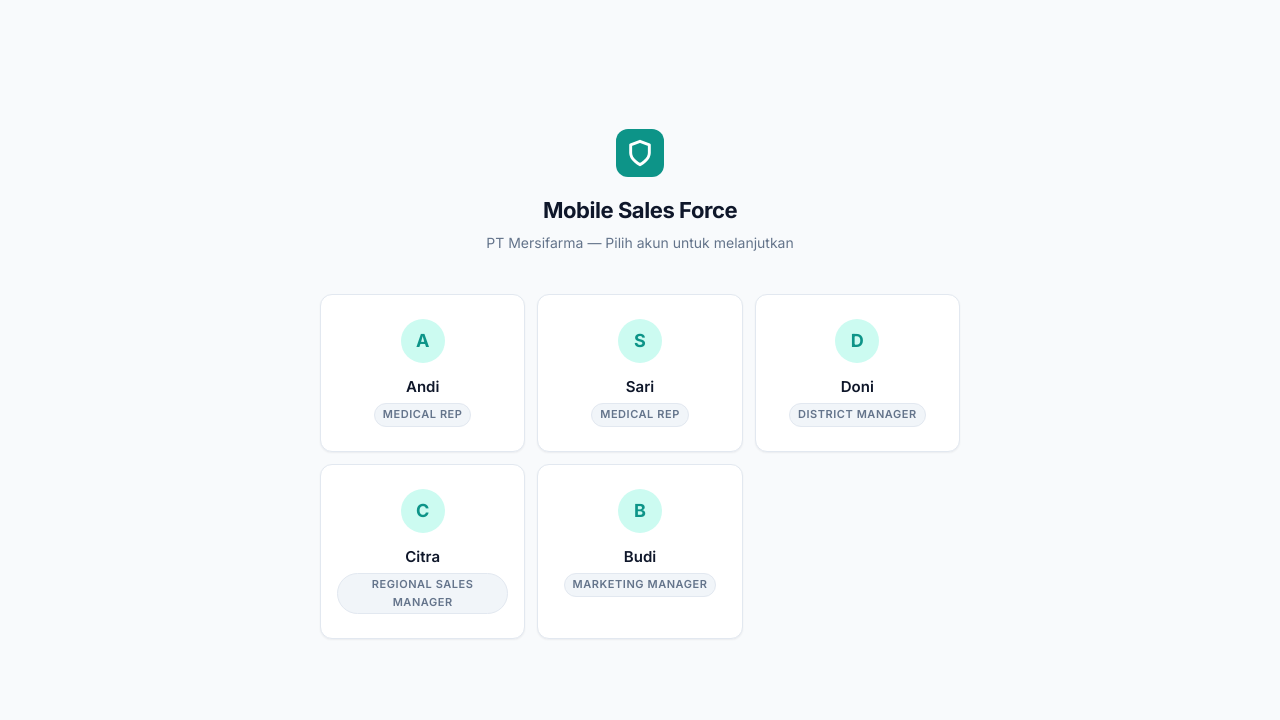
Test case: Generate Screenshots › takes screenshots of all main pages
# Login as MR
Click the button "A Andi Medical Rep". click: click(423, 373)
box: [320,294,525,452]
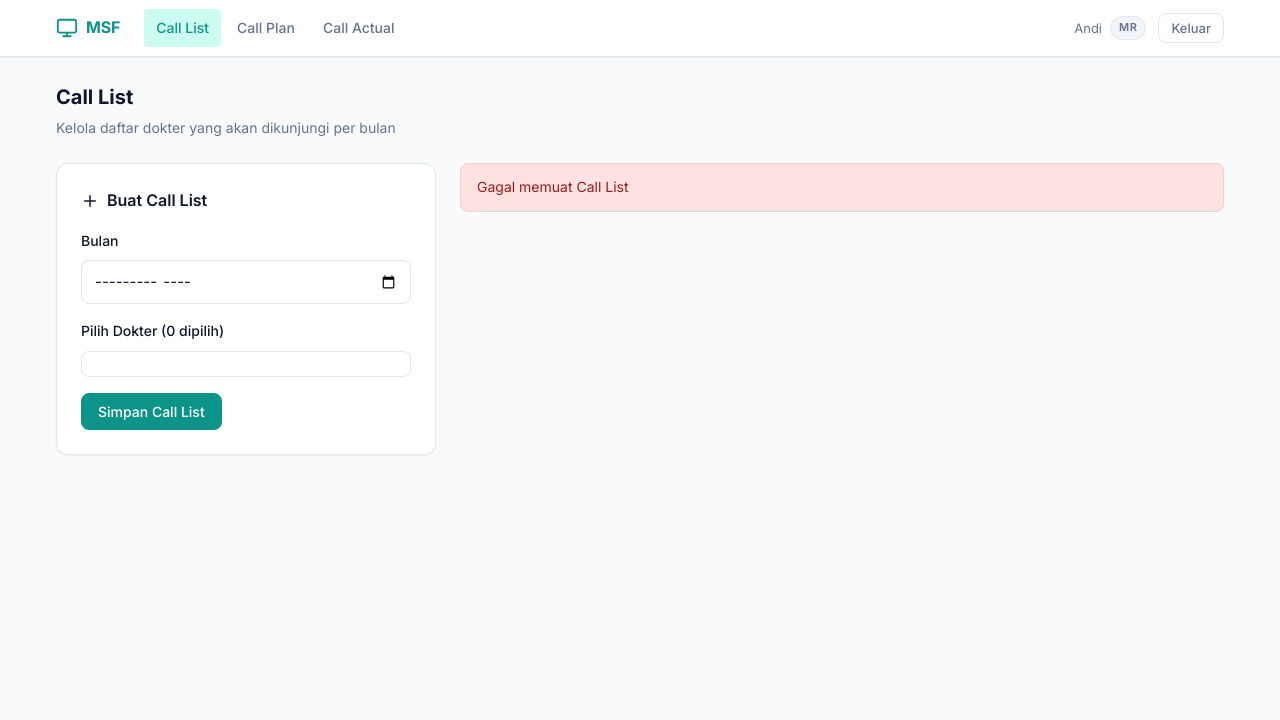
Result: the heading "Call List" is shown at [56,85,133,109]
# Call Plans Page
Click the link "Call Plan". click: click(266, 28)
box: [237,19,295,36]
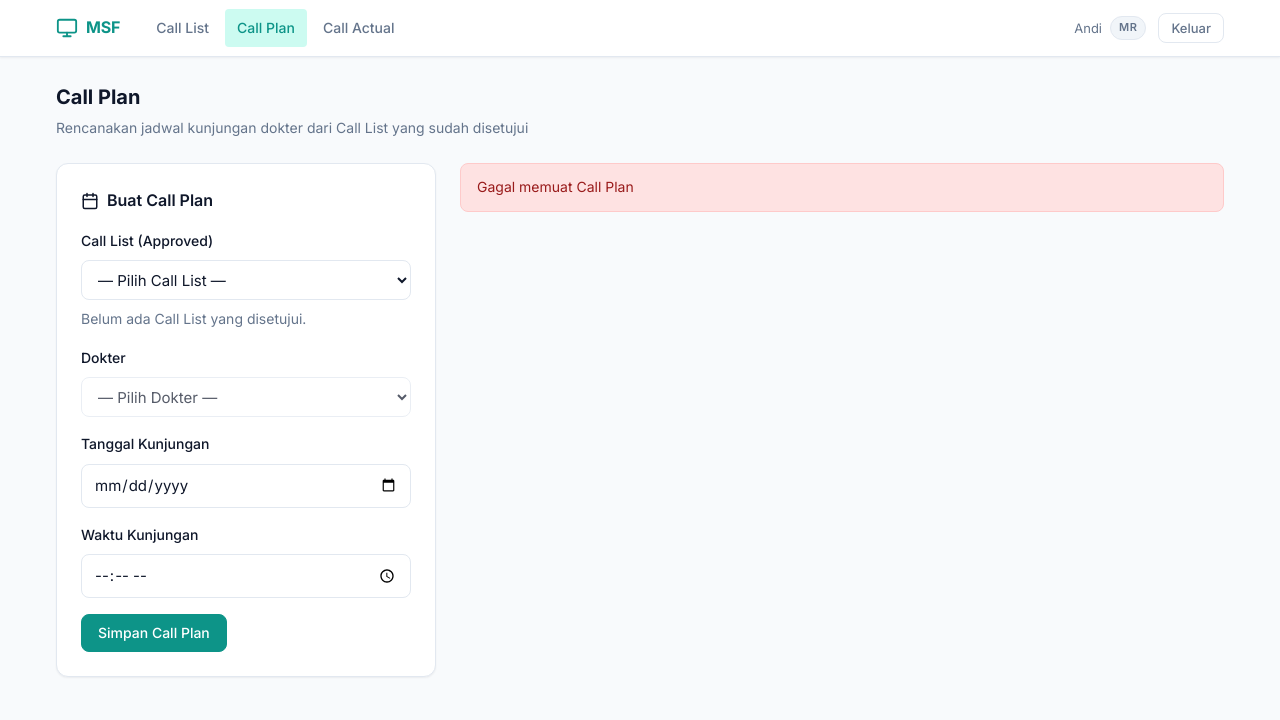
Result: the heading "Call Plan" is shown at [56,85,140,109]
# Call Actuals Page
Click the link "Call Actual". click: click(359, 28)
box: [323,19,395,36]
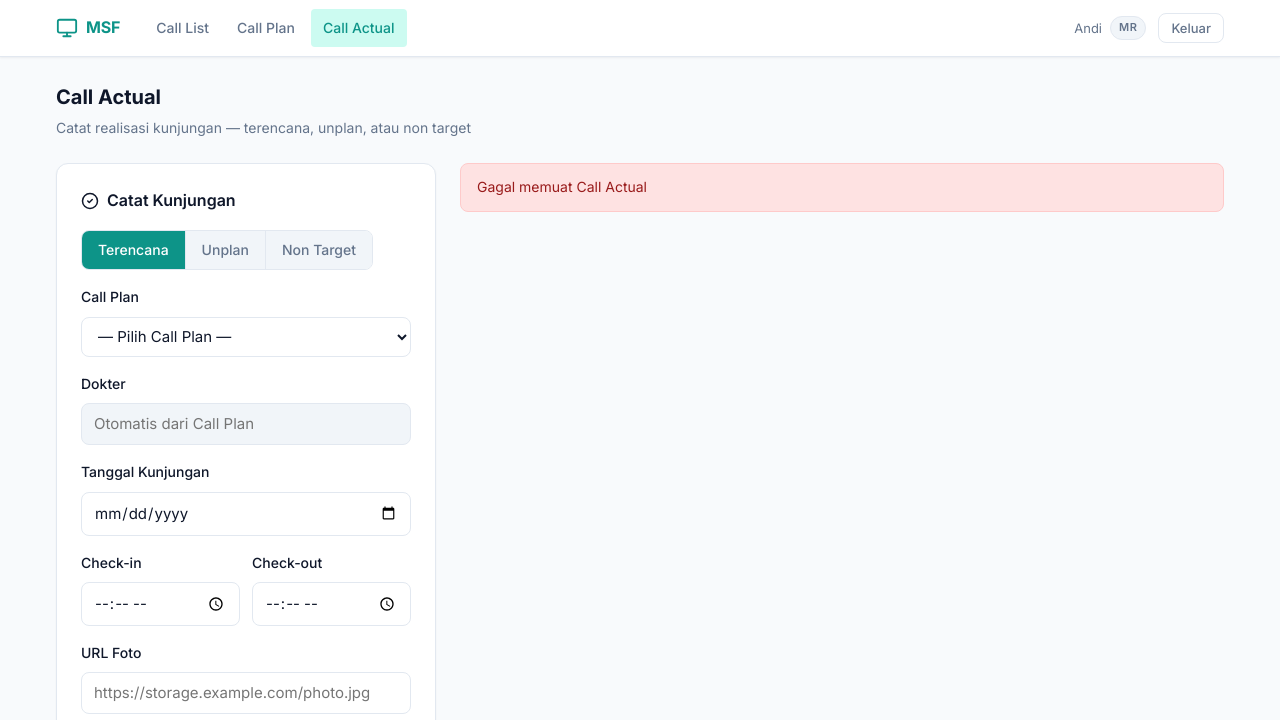
Result: the heading "Call Actual" is shown at [56,85,161,109]
